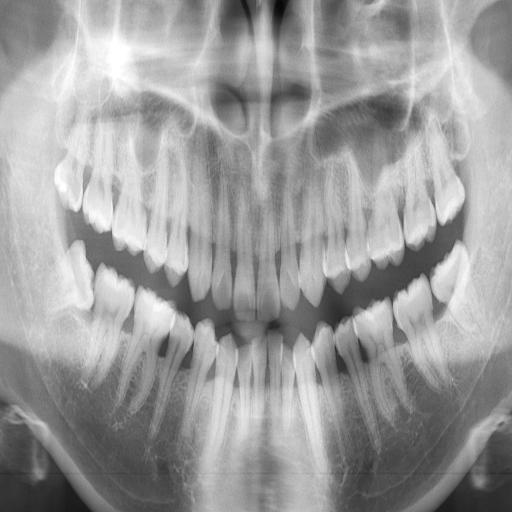Wisdom teeth: (427, 121, 464, 225), (54, 125, 91, 210), (431, 242, 470, 317), (52, 242, 92, 308)
